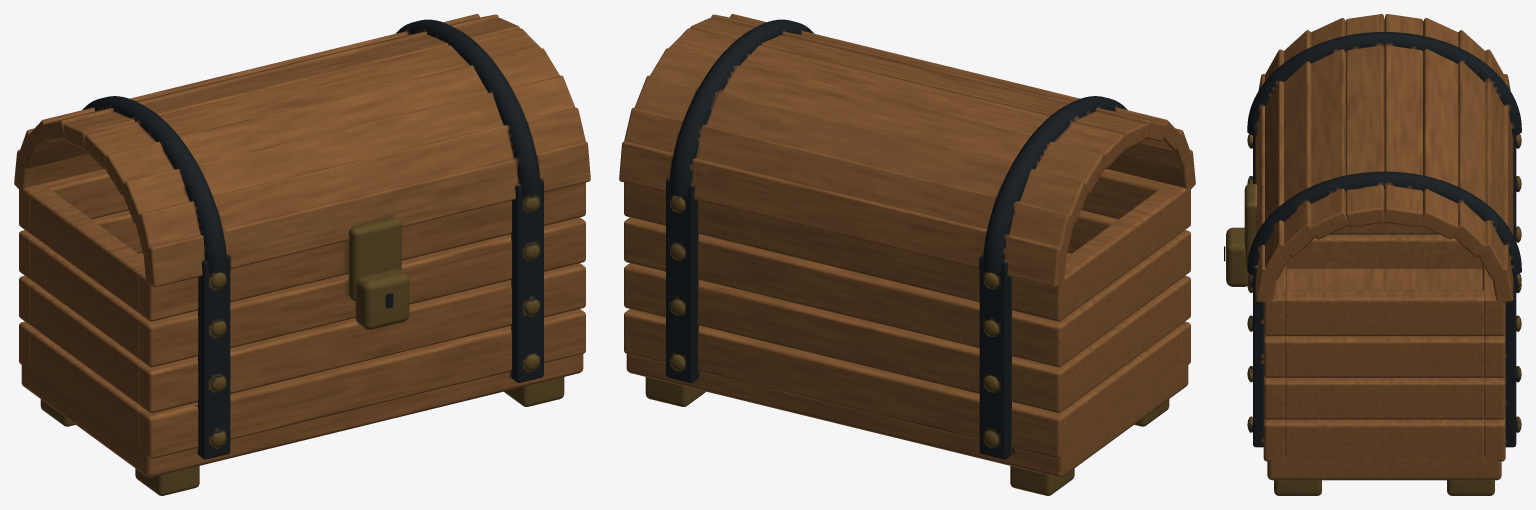
The model's file is result.glb.
3 views of the same model, side by side, from view 1: azimuth 30°, elevation 25°; view 2: azimuth 150°, elevation 25°; view 3: azimuth 270°, elevation 25° (orthographic). The views are drawn at different scales.
Visible parts, largest first — view 1: Chest_export_target; view 2: Chest_export_target; view 3: Chest_export_target.
Part boxes in pixels (bbox=[...]): Chest_export_target: bbox=[14, 14, 590, 495]; Chest_export_target: bbox=[619, 14, 1195, 495]; Chest_export_target: bbox=[1224, 14, 1521, 495].
Size of what is drawn, in the model's own units: 2.4 by 1.75 by 1.55.
1 material, 1 textured.
